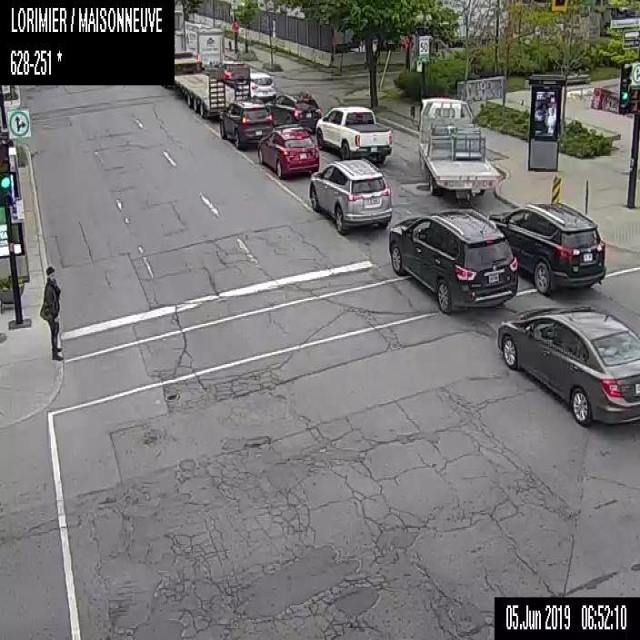pedestrian: (39, 264, 62, 361)
vehicle: (495, 303, 639, 428), (388, 205, 518, 315), (488, 202, 606, 295), (160, 7, 250, 118), (414, 94, 500, 198), (310, 158, 391, 232), (314, 104, 392, 165), (258, 121, 318, 179), (219, 100, 273, 150), (264, 90, 322, 134), (184, 21, 224, 70), (247, 70, 275, 105), (217, 60, 249, 86)
